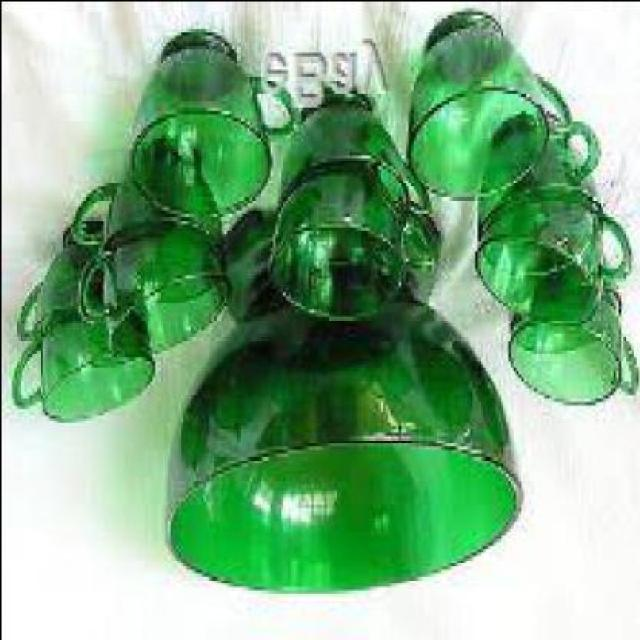GLASS: (158, 208, 517, 600), (122, 27, 295, 230), (404, 13, 568, 202), (263, 164, 435, 324), (470, 198, 628, 332), (74, 226, 228, 363), (277, 93, 435, 222), (505, 280, 637, 411), (8, 310, 149, 424), (66, 164, 220, 264), (474, 113, 597, 236), (10, 229, 133, 349)
